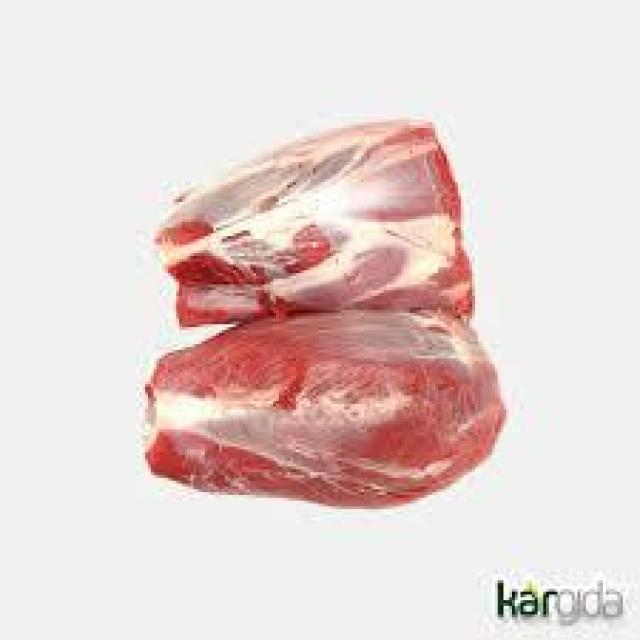beef: (96, 315, 526, 521)
